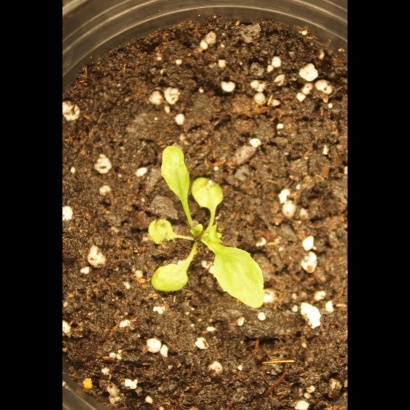leaf: (208, 240, 272, 312), (155, 139, 193, 210), (148, 255, 194, 299), (189, 167, 230, 216), (141, 213, 182, 247)
